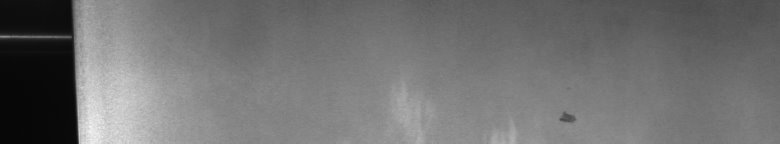fi: (556, 104, 580, 129)
